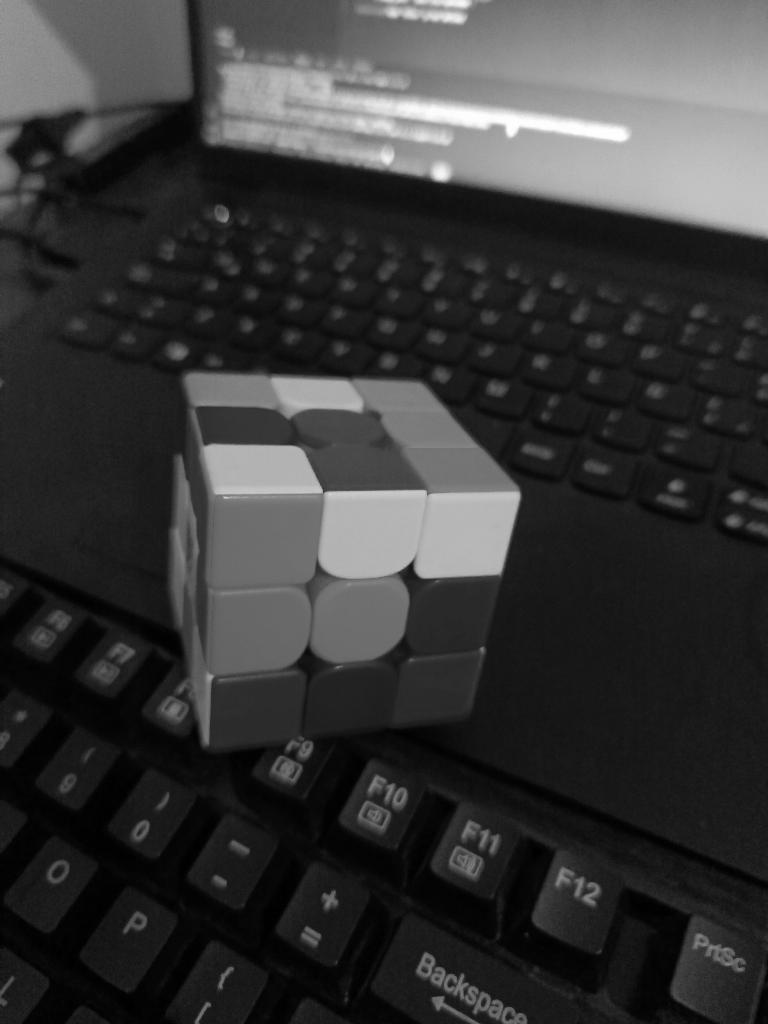rubik: (167, 367, 522, 751)
